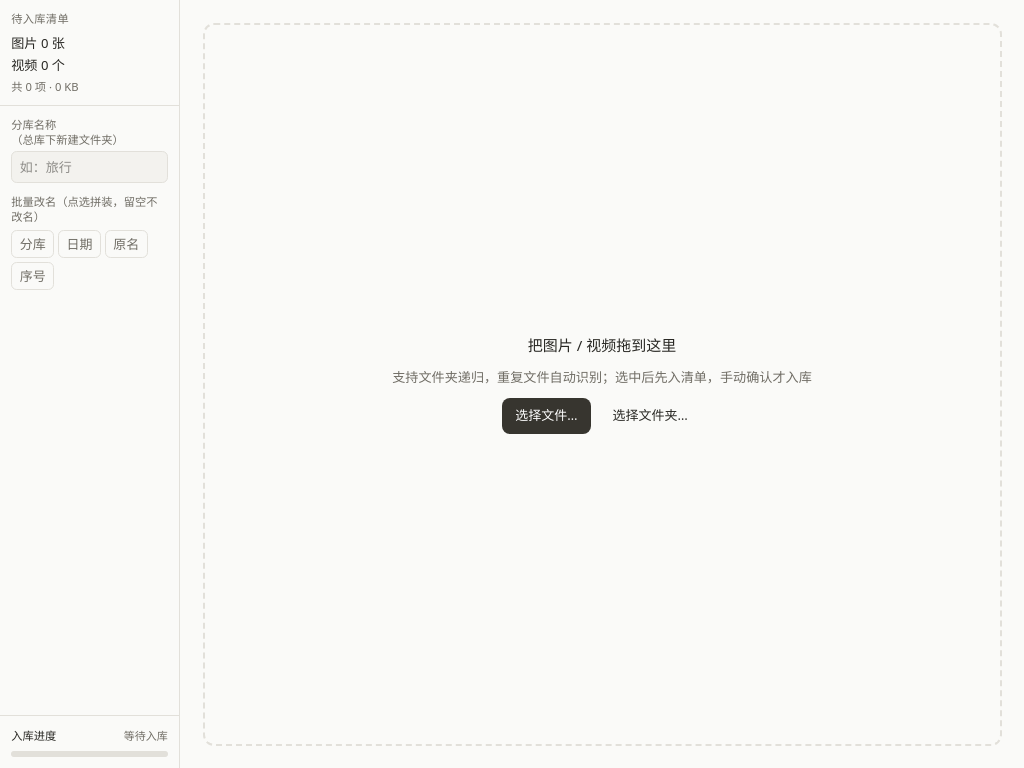
ImportPage › 可解析但可能受限的 RAW 入队时显示非阻断说明
What coordinates should you click on to do the following:
click the button "选择文件…"
I would click on:
 (546, 416)
Its box is [502, 398, 591, 434].
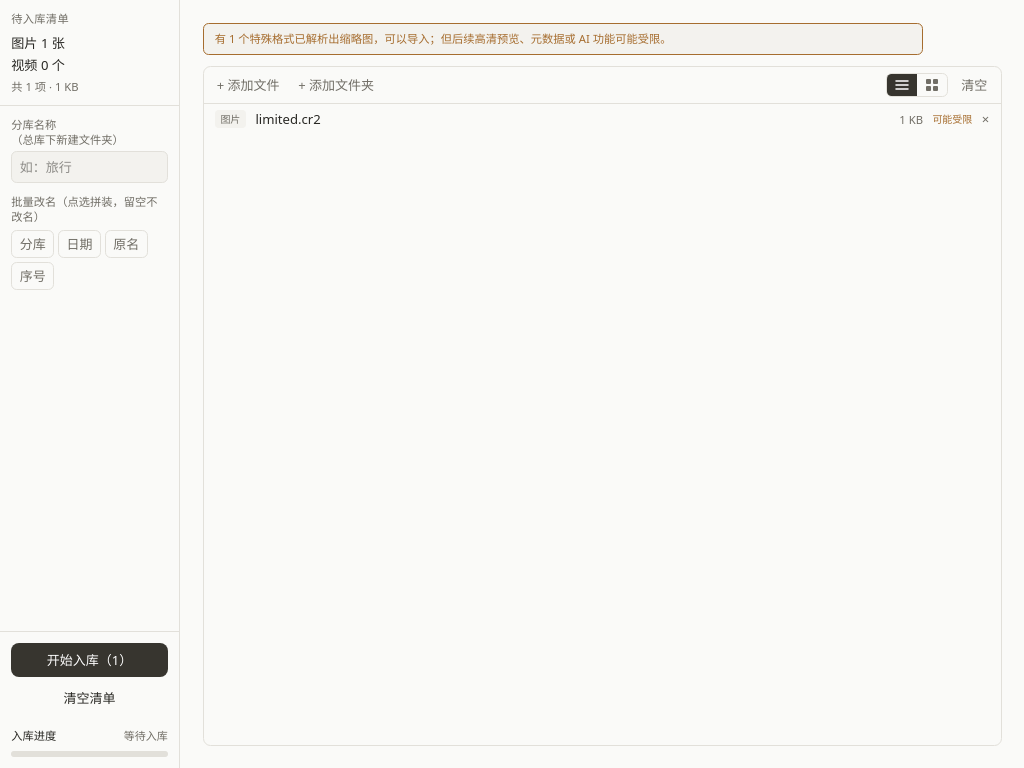
Check: the text "有 1 个特殊格式已解析出缩略图，可以导入；但后续高清预览、元数据或 AI 功能可能受限。" is shown, box [202, 22, 922, 54]
Check: the button "开始入库（1）" is shown, box [11, 643, 168, 677]
